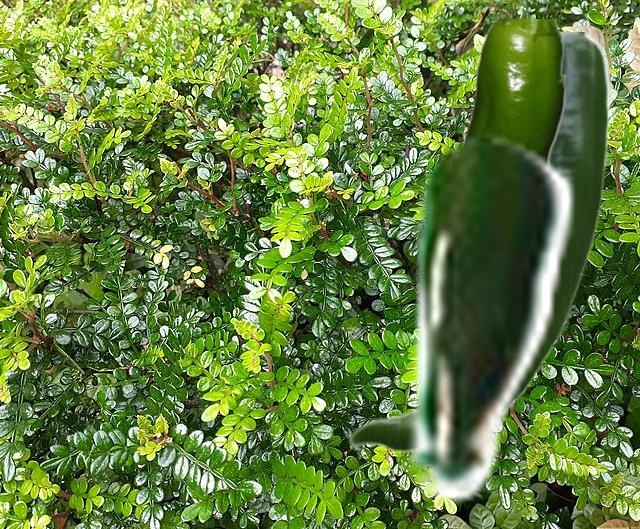green_chili: (347, 32, 612, 453), (398, 131, 577, 504), (461, 19, 564, 160)
